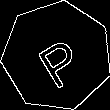P_NW: (28, 25, 86, 87)
